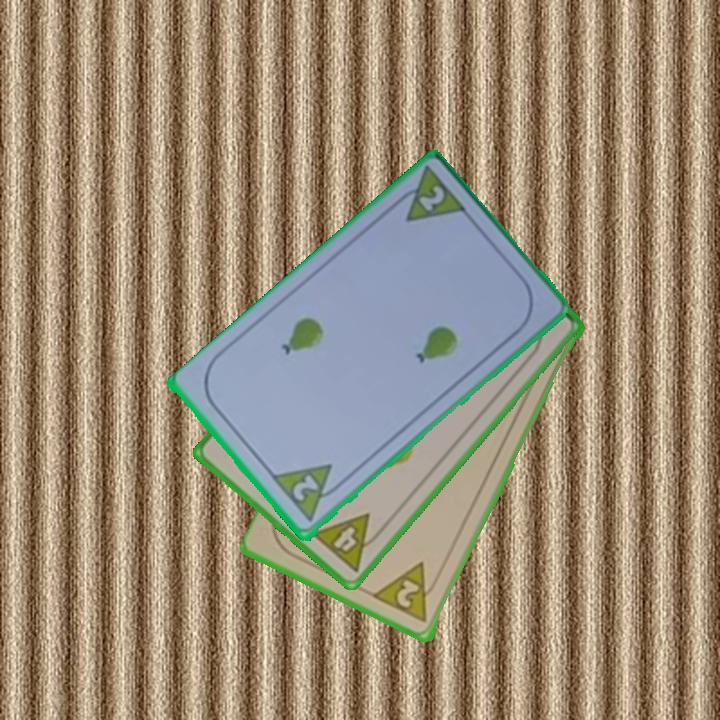2p: (371, 559, 443, 626), (288, 472, 322, 505), (415, 182, 448, 216)
4p: (307, 509, 388, 576)
